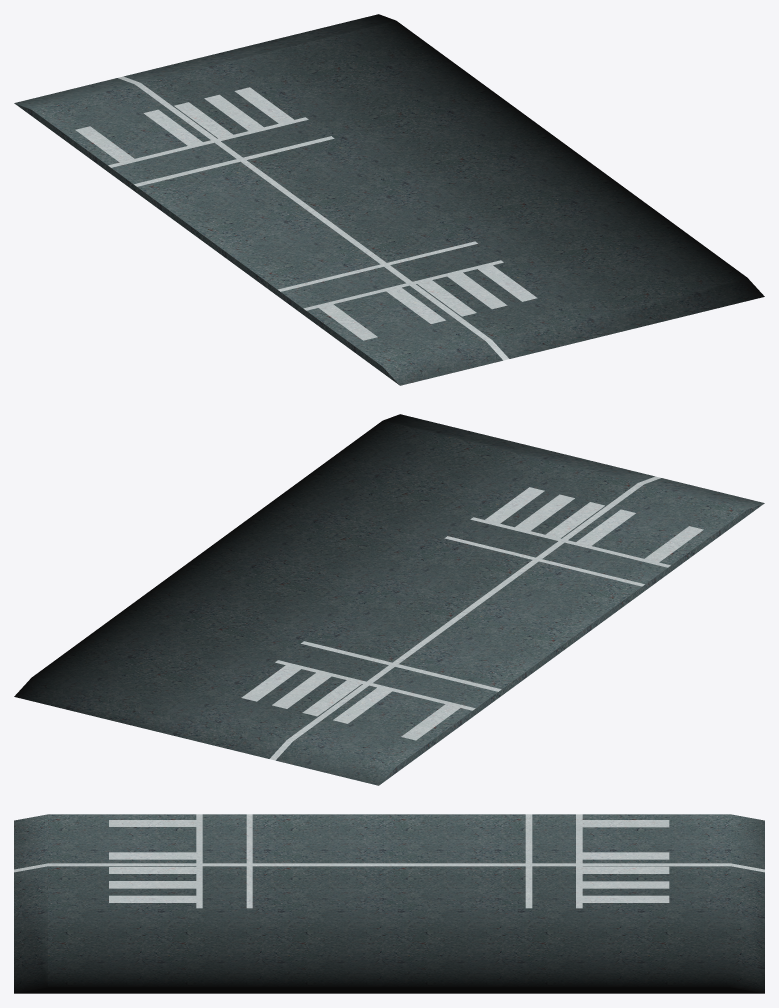
The model's file is ROMEN_LEFT04.glb.
3 renders of one model, top to bottom at view 1: azimuth 30°, elevation 25°; view 2: azimuth 150°, elevation 25°; view 3: azimuth 270°, elevation 25°, orthographic. The views are drawn at different scales.
Visible parts, largest first — view 1: Model; view 2: Model; view 3: Model.
Boxes of the visible parts, <box> form: Model: <box>14,14,764,385</box>; Model: <box>14,414,764,785</box>; Model: <box>14,814,764,993</box>.
Size of the model in its own units: 60 by 1 by 110.
2 materials, 2 textured.
